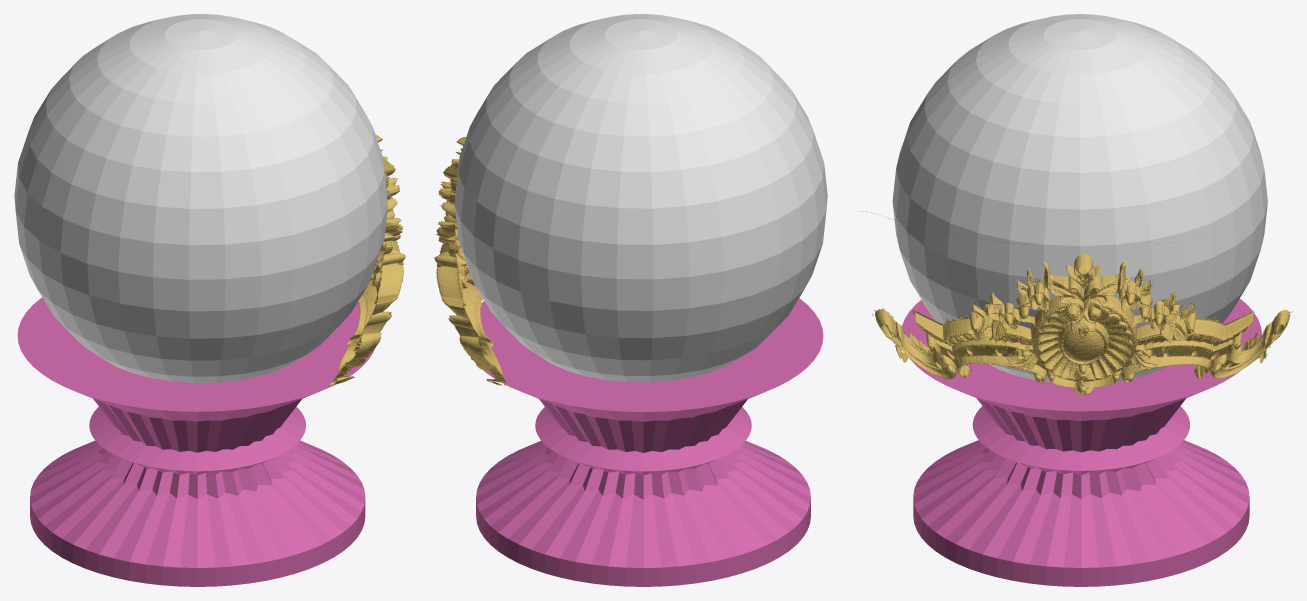
File: glinda_model1-compressed.glb
3 views of the same model, side by side, from view 1: azimuth 30°, elevation 25°; view 2: azimuth 150°, elevation 25°; view 3: azimuth 270°, elevation 25° (orthographic).
Visible parts, largest first — view 1: Sphere002, Cylinder, Plane005; view 2: Sphere002, Cylinder, Plane005; view 3: Sphere002, Cylinder, Plane005.
Part boxes in pixels (x1,y1,x2,y2): Sphere002: [14, 14, 387, 382]; Cylinder: [17, 297, 374, 586]; Plane005: [328, 135, 405, 386]; Sphere002: [454, 14, 827, 382]; Cylinder: [474, 298, 823, 586]; Plane005: [434, 137, 510, 388]; Sphere002: [892, 14, 1267, 382]; Cylinder: [902, 298, 1261, 586]; Plane005: [860, 211, 1292, 395].
Size of the model in its own units: 16.17 by 21.73 by 17.69.
